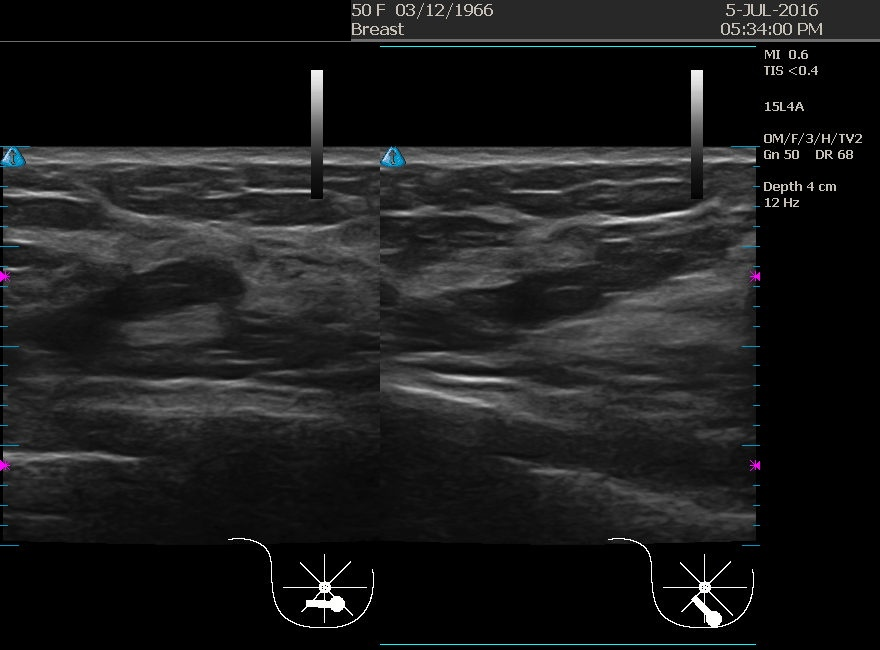Benign: (64, 195, 264, 395), (455, 197, 655, 397)
